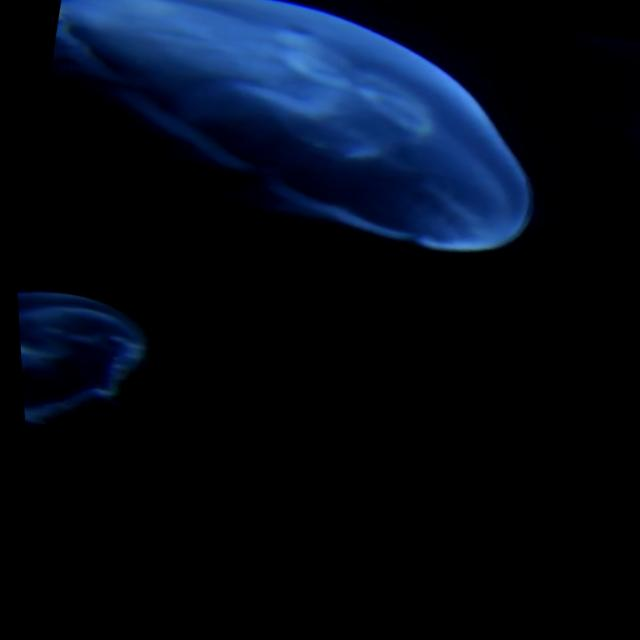Moon-jellyfish: (52, 0, 531, 254), (13, 288, 146, 441)
